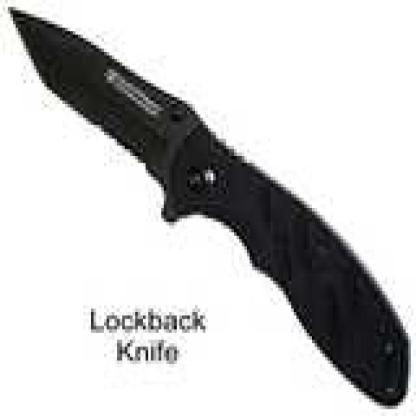Knife: (6, 0, 416, 416)
